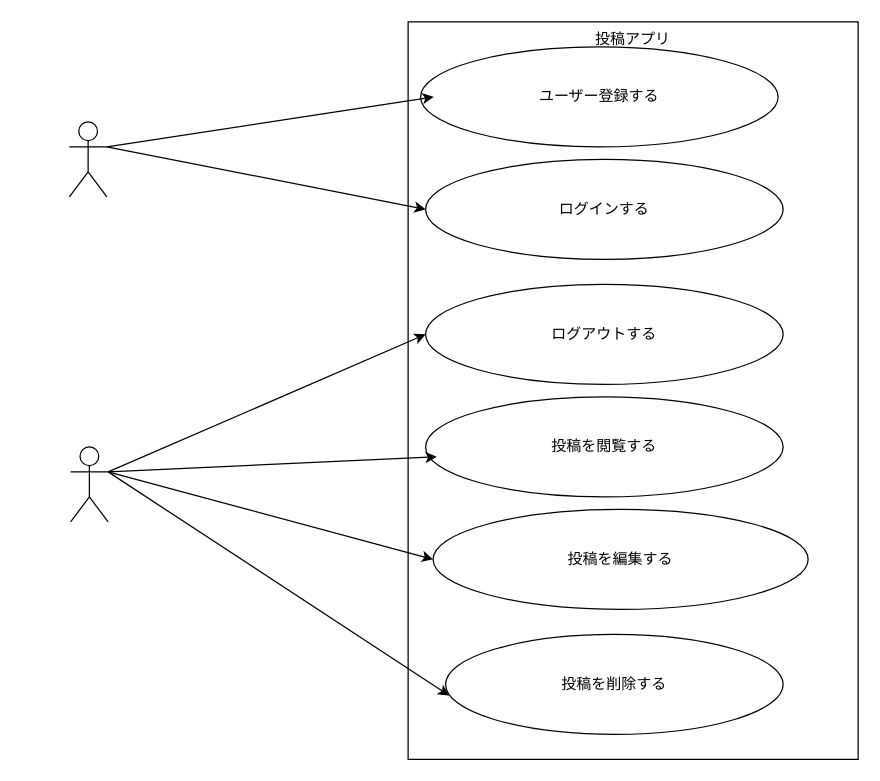
Some shapes in this 880 by 781 pixel diagram are drawn without their labels. The shapes that lost their labels are listed below. From the top down, each one's centre as x and y in pixels, then its label:
At point (87, 159): "訪問者".
At point (88, 484): "ログイン済み利用者".
